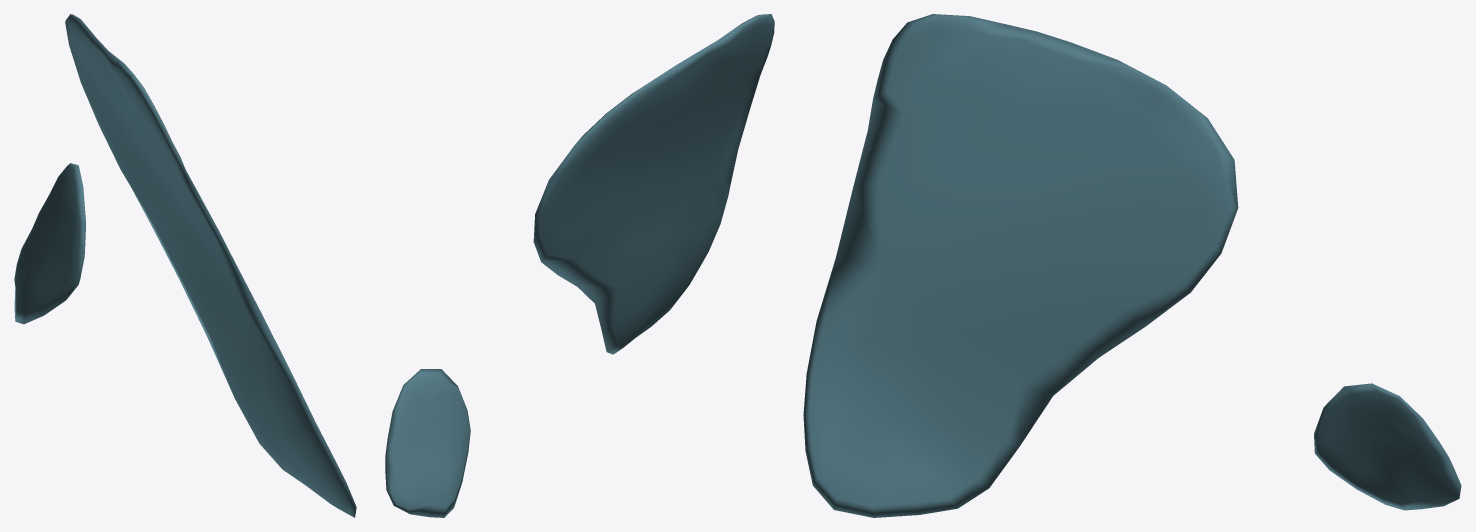
File: Rectus_femoris_iliac_insertion_right.glb
3 renders of one model, left to right at view 1: azimuth 30°, elevation 25°; view 2: azimuth 150°, elevation 25°; view 3: azimuth 270°, elevation 25°, orthographic. The views are drawn at different scales.
Parts seen in each view (by area): view 1: Rectus_femoris_muscle-Iliac_insertion.r_Generated_Mesh_From_; view 2: Rectus_femoris_muscle-Iliac_insertion.r_Generated_Mesh_From_; view 3: Rectus_femoris_muscle-Iliac_insertion.r_Generated_Mesh_From_.
Part boxes in pixels (left/top/right/bottom): Rectus_femoris_muscle-Iliac_insertion.r_Generated_Mesh_From_: left=14, top=14, right=356, bottom=517; Rectus_femoris_muscle-Iliac_insertion.r_Generated_Mesh_From_: left=385, top=14, right=774, bottom=517; Rectus_femoris_muscle-Iliac_insertion.r_Generated_Mesh_From_: left=803, top=14, right=1461, bottom=517.
Bounding box in the file's own units: 0.0108 × 0.0252 × 0.0345.
